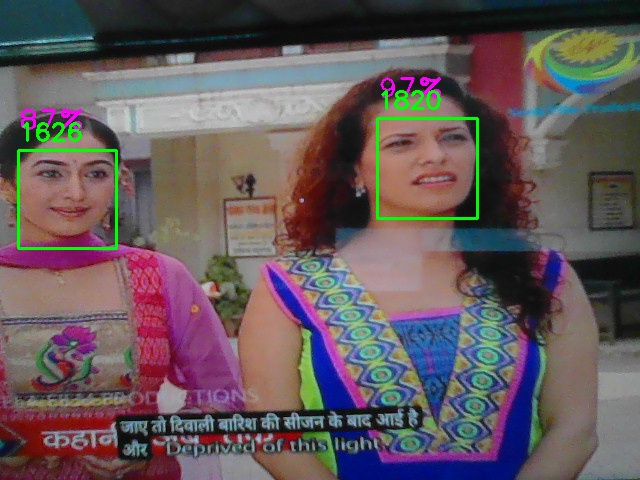fake: (377, 118, 478, 219), (18, 150, 117, 249)
